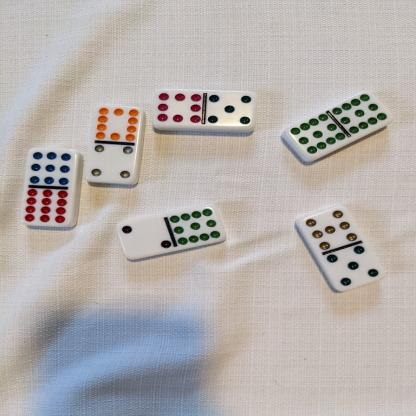pip-10: (92, 103, 140, 143)
pip-11: (330, 89, 393, 134), (286, 112, 345, 159), (170, 205, 224, 245)
pip-12: (22, 187, 74, 226)
pip-2: (115, 217, 173, 260)
pip-4: (87, 142, 135, 183)
pip-5: (327, 245, 386, 290), (204, 90, 254, 128)
pip-7: (297, 205, 356, 250)
pip-8: (154, 87, 204, 129)
pip-9: (24, 147, 74, 187)
